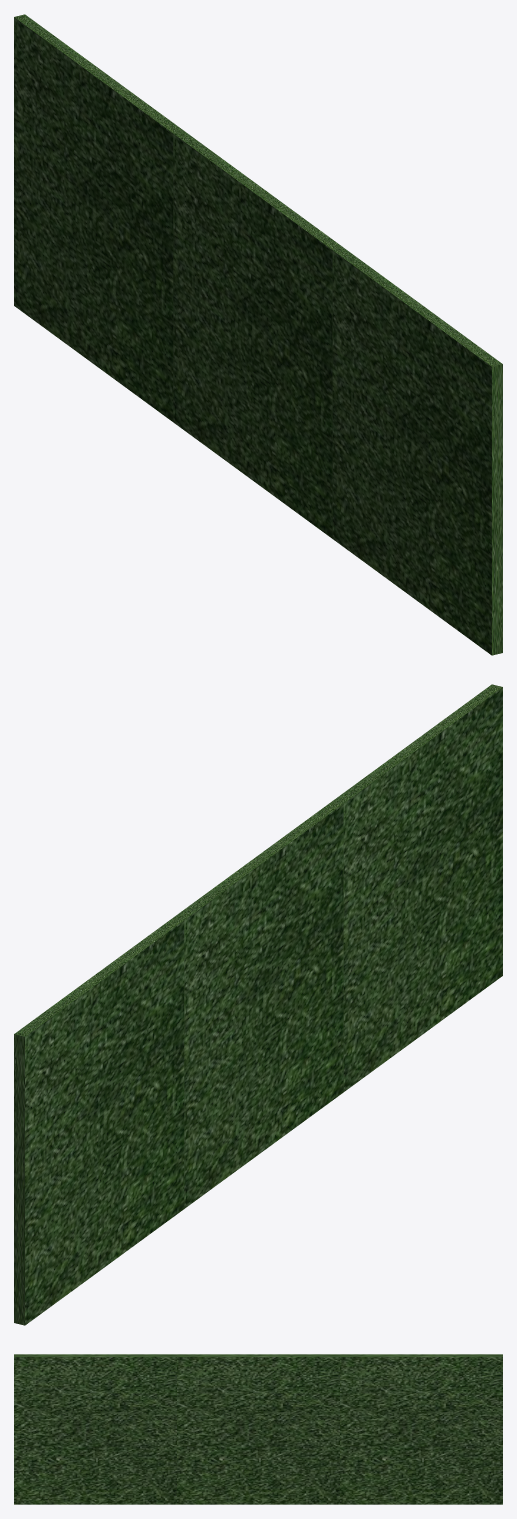
The picture shows the model from 3 angles, top to bottom: view 1: azimuth 30°, elevation 25°; view 2: azimuth 150°, elevation 25°; view 3: azimuth 270°, elevation 25°; orthographic projection. The views are drawn at different scales.
Parts seen in each view (by area): view 1: PC92_Cube.095, PC88_Cube.092, PC87_Cube.091; view 2: PC87_Cube.091, PC88_Cube.092, PC92_Cube.095; view 3: PC87_Cube.091, PC88_Cube.092, PC92_Cube.095.
Boxes of the visible parts, x1=… form: PC92_Cube.095: x1=332, y1=247, x2=502, y2=655; PC88_Cube.092: x1=173, y1=131, x2=343, y2=538; PC87_Cube.091: x1=14, y1=14, x2=183, y2=421; PC87_Cube.091: x1=14, y1=917, x2=184, y2=1325; PC88_Cube.092: x1=173, y1=801, x2=343, y2=1208; PC92_Cube.095: x1=333, y1=684, x2=502, y2=1091; PC87_Cube.091: x1=340, y1=1354, x2=502, y2=1504; PC88_Cube.092: x1=177, y1=1354, x2=339, y2=1504; PC92_Cube.095: x1=14, y1=1354, x2=176, y2=1504.
Bounding box in the file's own units: 0.4 × 10 × 30.
1 material, 1 textured.
